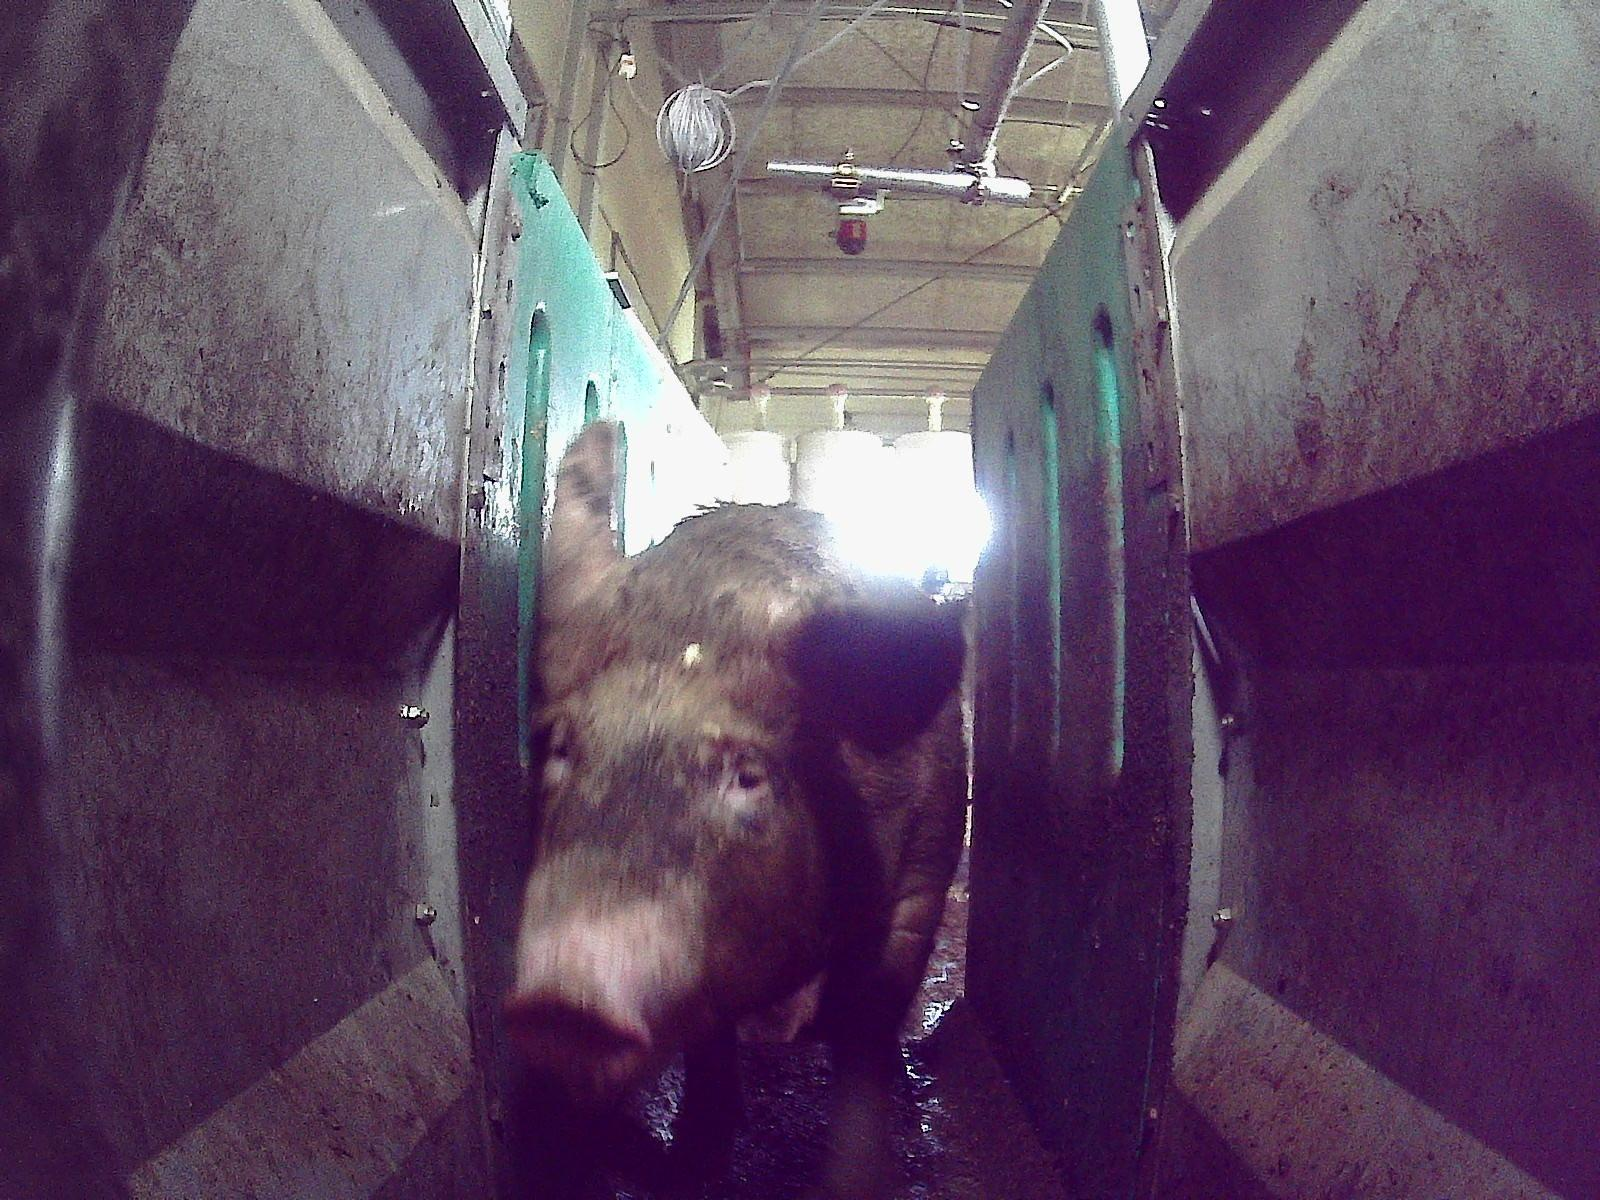Face: (500, 627, 833, 1097)
